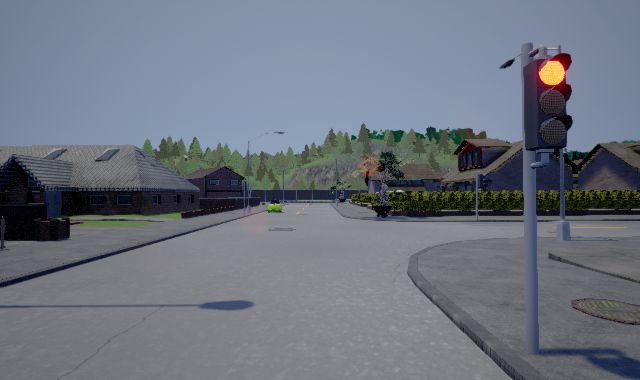traffic_light: (523, 45, 573, 169)
vehicle: (266, 198, 283, 214)
